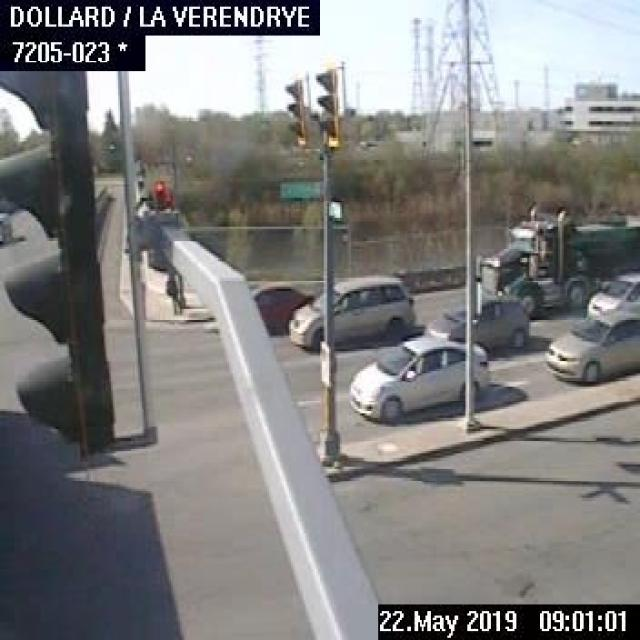pedestrian: (162, 264, 183, 316)
vehicle: (478, 202, 638, 314), (348, 332, 487, 418), (289, 271, 414, 344), (545, 315, 638, 382), (425, 297, 528, 352), (252, 278, 308, 332), (585, 268, 638, 314), (0, 209, 13, 247)
